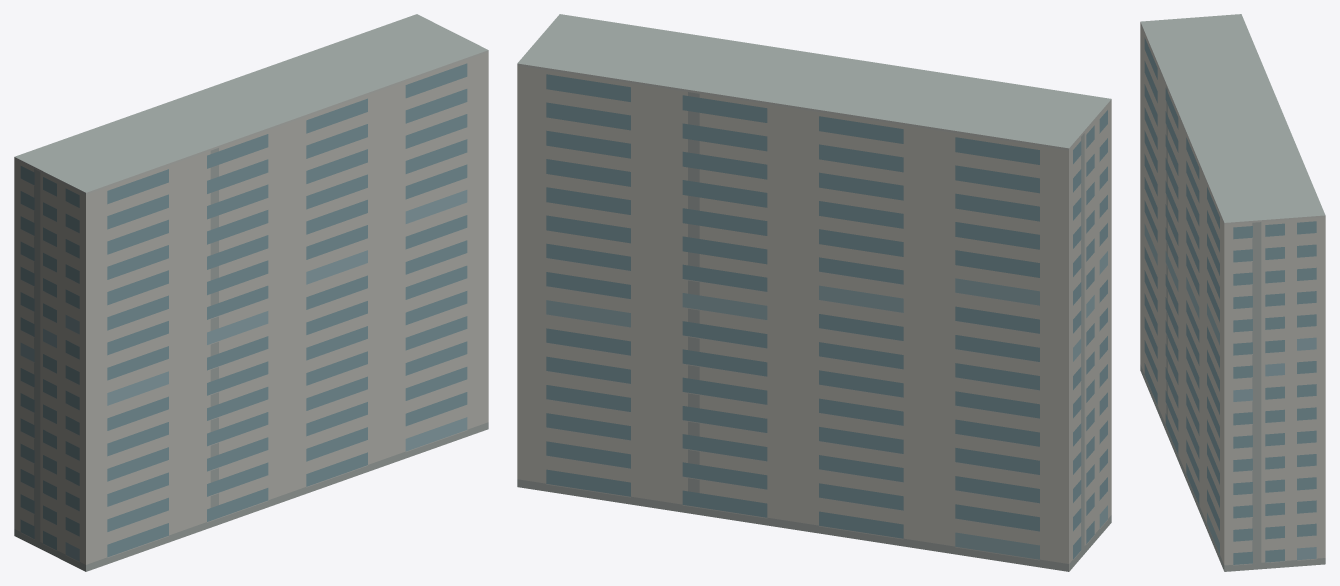
File: residential-efc9dbe4-8f45-4c66-a6ac-50d6896c337c.glb
3 renders of one model, left to right at view 1: azimuth 30°, elevation 25°; view 2: azimuth 150°, elevation 25°; view 3: azimuth 270°, elevation 25°, orthographic. The views are drawn at different scales.
Visible parts, largest first — view 1: residential-efc9dbe4-8f45-4c66-a6ac-50d6896c337c.tmp; view 2: residential-efc9dbe4-8f45-4c66-a6ac-50d6896c337c.tmp; view 3: residential-efc9dbe4-8f45-4c66-a6ac-50d6896c337c.tmp.
Boxes of the visible parts, <box> form: residential-efc9dbe4-8f45-4c66-a6ac-50d6896c337c.tmp: <box>14,14,488,571</box>; residential-efc9dbe4-8f45-4c66-a6ac-50d6896c337c.tmp: <box>517,14,1111,571</box>; residential-efc9dbe4-8f45-4c66-a6ac-50d6896c337c.tmp: <box>1140,14,1325,571</box>.
Bounding box in the file's own units: 58.75 × 45.75 × 22.01.
